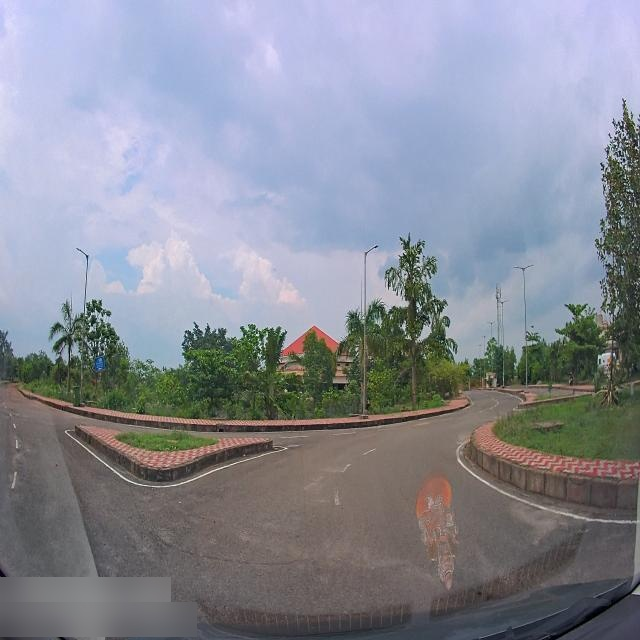pothole: (286, 443, 304, 448)
